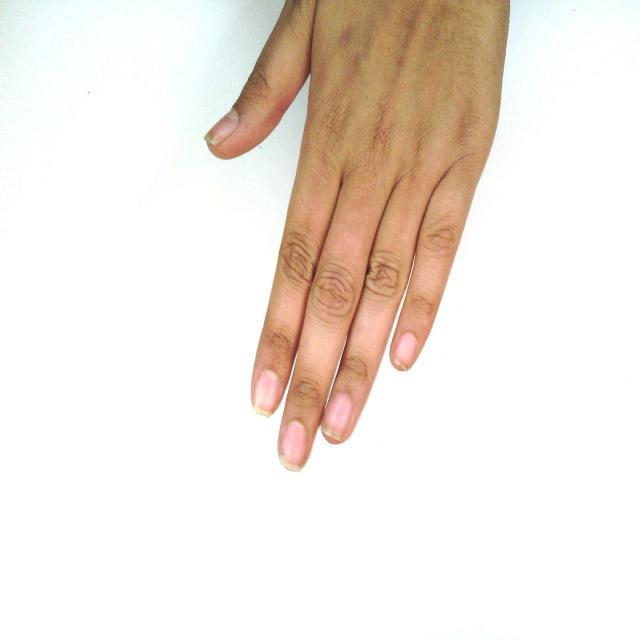Fingernail: (322, 392, 352, 442), (280, 421, 309, 471), (205, 111, 238, 145), (255, 370, 279, 415), (394, 333, 416, 370)
